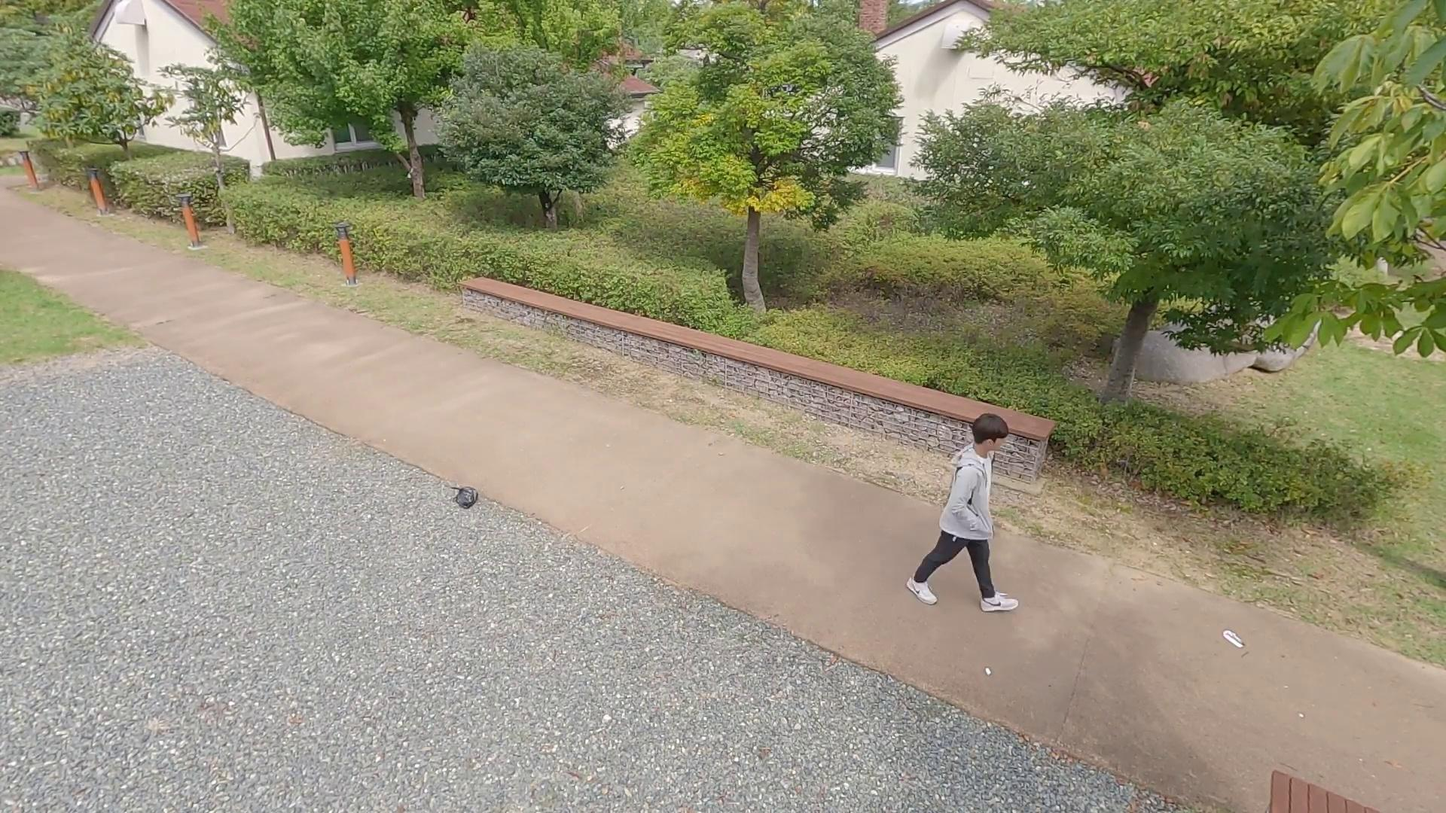person: (907, 410, 1022, 617), (440, 482, 483, 510)
